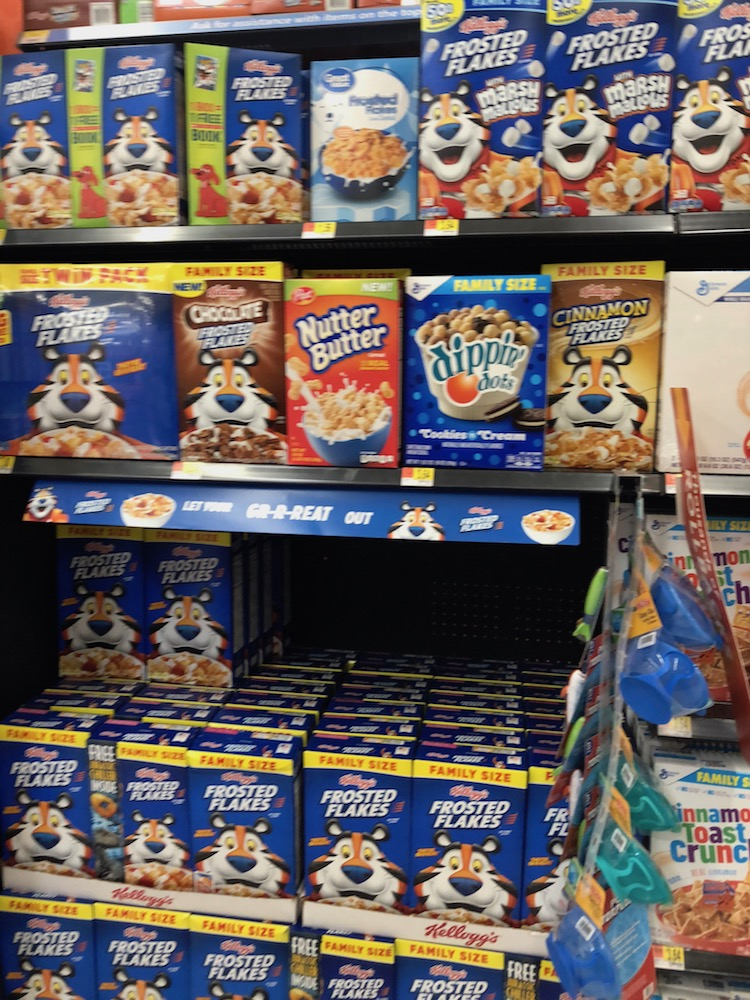Dippin Dots Cookies & Cream -568929378: (403, 288, 547, 472)
Nutter Butter-565717511: (274, 277, 403, 464)
